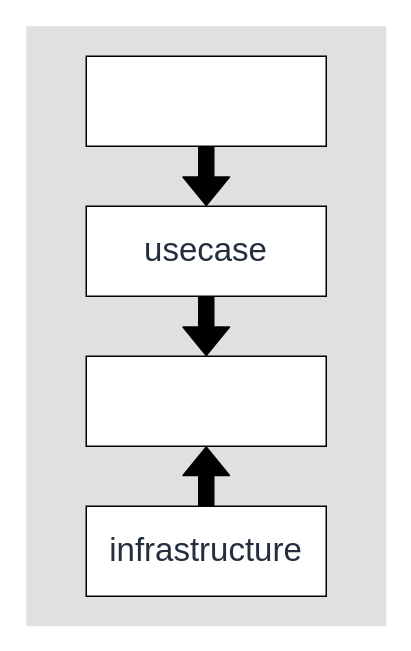
Image size: 411x651. Some labels were removed from this diagram. The centre of each missing label's shape, as x and y in pixels:
"domain" goes at pixel 205 400.
"interface" goes at pixel 205 100.
